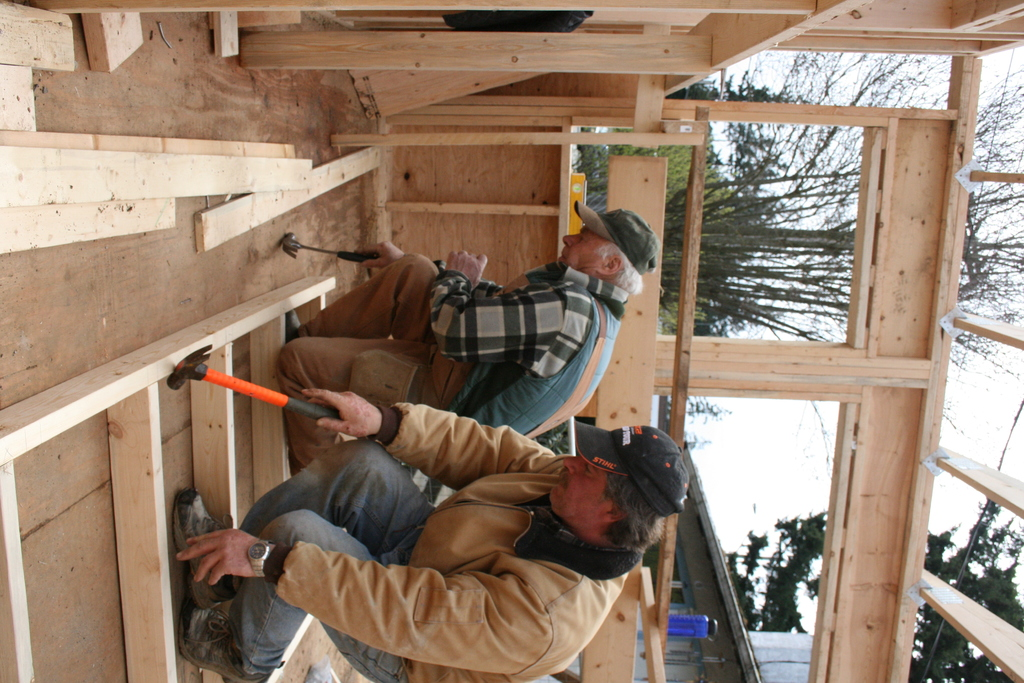Person: (171, 387, 690, 683), (276, 199, 660, 475)
